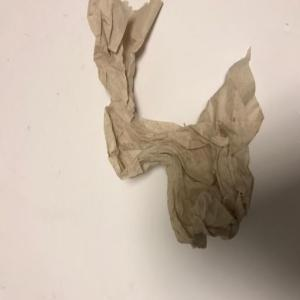Trash: (87, 2, 265, 252)
